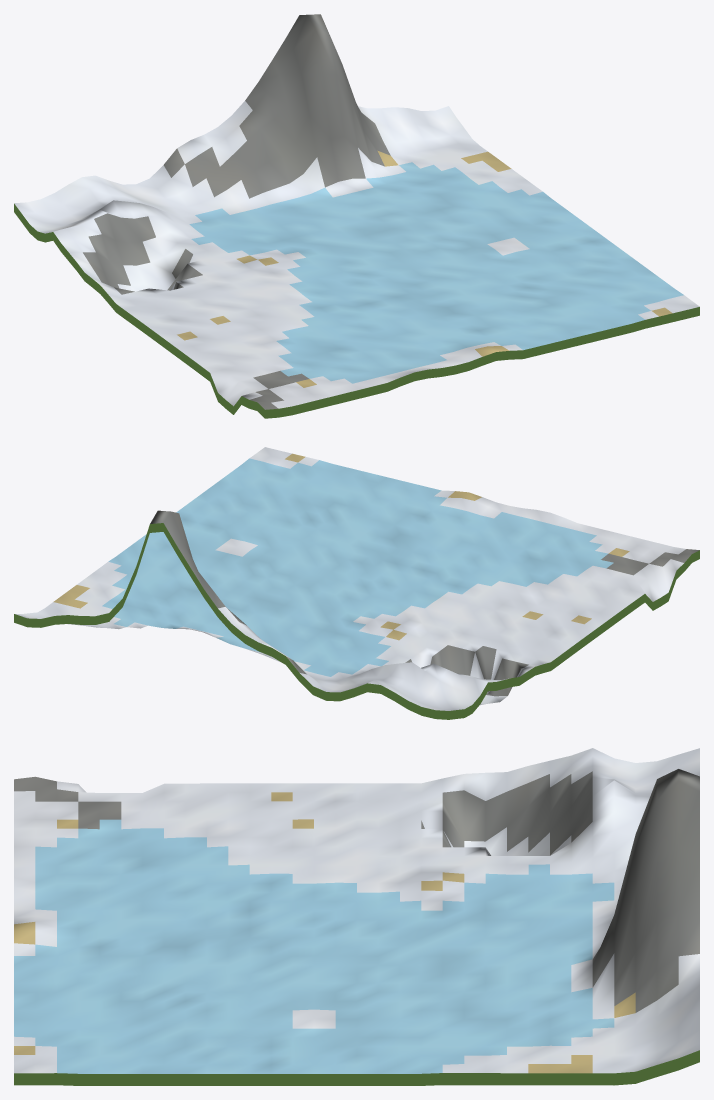
File: chunk_6_1_lod1.glb
3 views of the same model, one above another, from view 1: azimuth 30°, elevation 25°; view 2: azimuth 150°, elevation 25°; view 3: azimuth 270°, elevation 25° (orthographic). The views are drawn at different scales.
Visible parts, largest first — view 1: Surface_Ice, Surface_Snow, Surface_Gravel, Skirt, Surface_Sand; view 2: Surface_Ice, Surface_Snow, Skirt, Surface_Gravel, Surface_Sand; view 3: Surface_Ice, Surface_Snow, Surface_Gravel, Skirt, Surface_Sand.
Part boxes in pixels (left/top/right/bottom): Surface_Ice: left=189, top=162, right=683, bottom=383; Surface_Snow: left=14, top=101, right=699, bottom=408; Surface_Gravel: left=83, top=14, right=390, bottom=409; Skirt: left=14, top=203, right=699, bottom=418; Surface_Sand: left=177, top=150, right=672, bottom=387; Surface_Ice: left=102, top=458, right=613, bottom=676; Surface_Snow: left=15, top=447, right=685, bottom=710; Skirt: left=14, top=523, right=699, bottom=719; Surface_Gravel: left=150, top=510, right=699, bottom=696; Surface_Sand: left=53, top=453, right=629, bottom=640; Surface_Ice: left=14, top=819, right=614, bottom=1073; Surface_Snow: left=14, top=748, right=699, bottom=1073; Surface_Gravel: left=14, top=769, right=699, bottom=1012; Skirt: left=14, top=1050, right=699, bottom=1085; Surface_Sand: left=14, top=792, right=635, bottom=1073.
Size of the model in its own units: 256 by 106 by 256.
